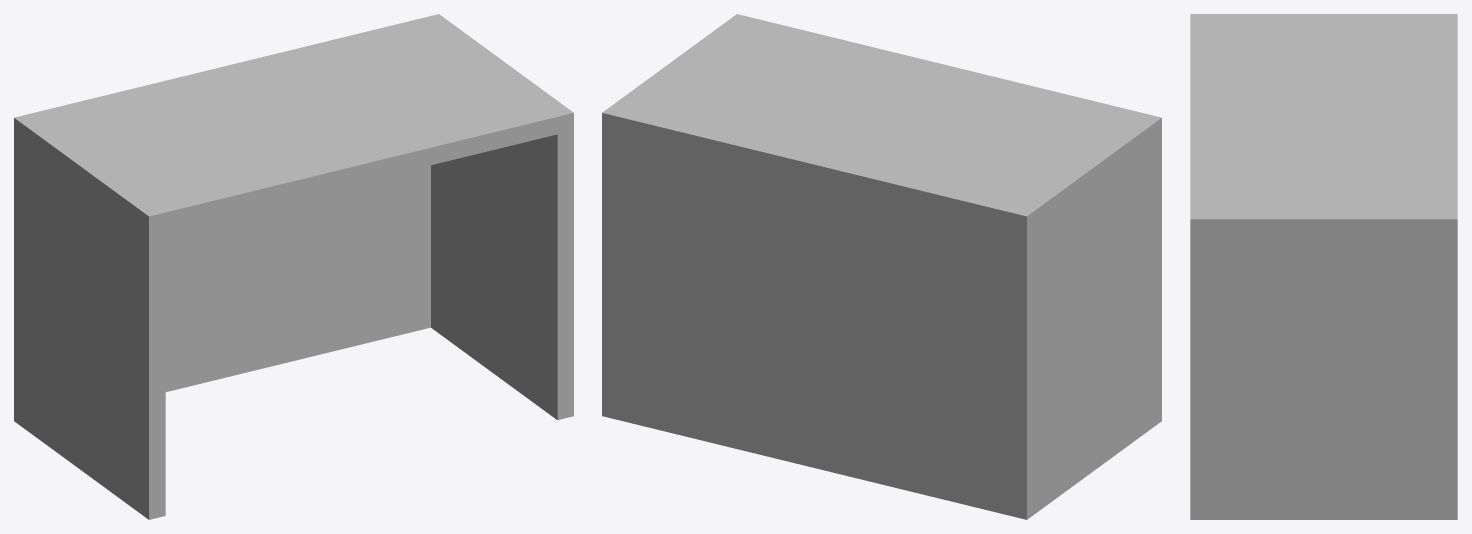
Rendered from Itr_Wardrobe2_Body2_06.FBX.
3 views of the same model, side by side, from view 1: azimuth 30°, elevation 25°; view 2: azimuth 150°, elevation 25°; view 3: azimuth 270°, elevation 25° (orthographic).
Parts seen in each view (by area): view 1: Itr_Wardrobe2_Body2_06; view 2: Itr_Wardrobe2_Body2_06; view 3: Itr_Wardrobe2_Body2_06.
Part boxes in pixels (bbox=[...]): Itr_Wardrobe2_Body2_06: bbox=[14, 14, 573, 519]; Itr_Wardrobe2_Body2_06: bbox=[602, 14, 1161, 519]; Itr_Wardrobe2_Body2_06: bbox=[1190, 14, 1457, 519].
Size of the model in its own units: 39.14 by 26.71 by 21.54.
